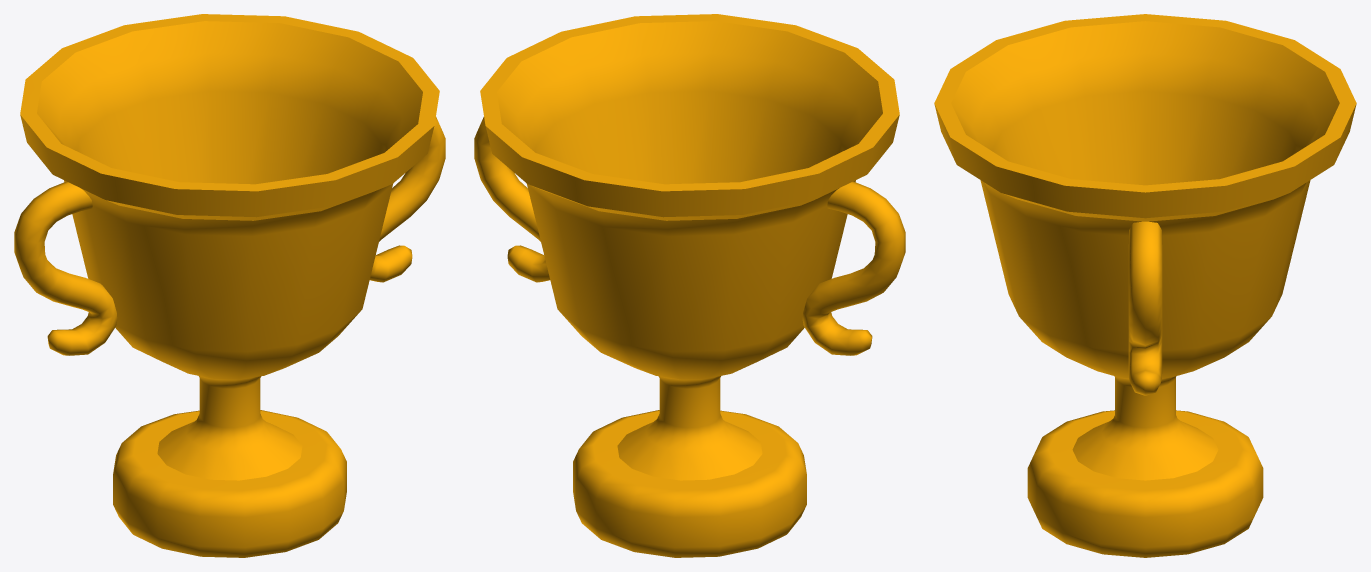
File: cup_001.glb
3 views of the same model, side by side, from view 1: azimuth 30°, elevation 25°; view 2: azimuth 150°, elevation 25°; view 3: azimuth 270°, elevation 25° (orthographic).
Visible parts, largest first — view 1: cup_001; view 2: cup_001; view 3: cup_001.
Boxes of the visible parts, x1,y1,x2,y2 form: cup_001: (14,14,445,557); cup_001: (474,14,905,557); cup_001: (934,14,1356,557).
Size of the model in its own units: 13.42 by 12.44 by 11.53.
1 material, 1 textured.
